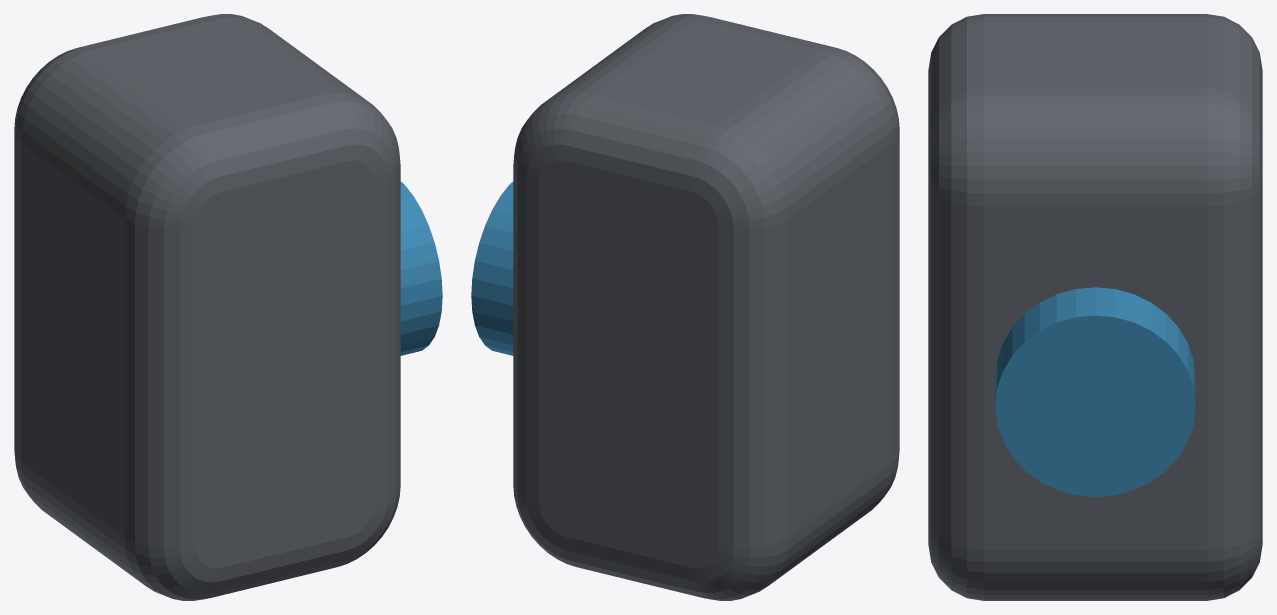
The model's file is camera.glb.
3 views of the same model, side by side, from view 1: azimuth 30°, elevation 25°; view 2: azimuth 150°, elevation 25°; view 3: azimuth 270°, elevation 25° (orthographic). The views are drawn at different scales.
Visible parts, largest first — view 1: part_0, part_1; view 2: part_0, part_1; view 3: part_0, part_1.
Boxes of the visible parts, box(x1,y1,x2,y2) form: part_0: box(14, 14, 400, 600); part_1: box(400, 181, 442, 355); part_0: box(513, 14, 899, 600); part_1: box(471, 181, 513, 355); part_0: box(928, 14, 1262, 600); part_1: box(995, 287, 1195, 496).
Bounding box in the file's own units: 0.036 × 0.05 × 0.03.
